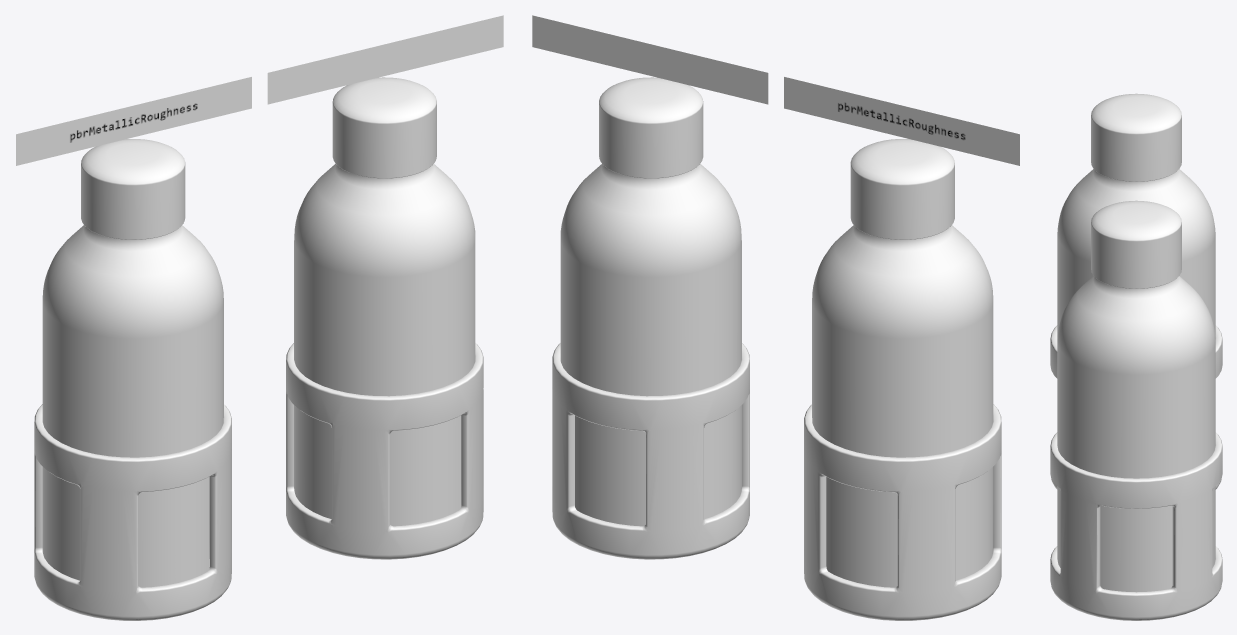
The model's file is specGlossMetalRough1.glb.
3 renders of one model, left to right at view 1: azimuth 30°, elevation 25°; view 2: azimuth 150°, elevation 25°; view 3: azimuth 270°, elevation 25°, orthographic. The views are drawn at different scales.
Parts seen in each view (by area): view 1: WaterBottle_SpecGloss, WaterBottle_MR, SpecGlossLabel, MetalRoughLabel; view 2: WaterBottle_SpecGloss, WaterBottle_MR, SpecGlossLabel, MetalRoughLabel; view 3: WaterBottle_SpecGloss, WaterBottle_MR.
Part boxes in pixels (x1,y1,x2,y2): WaterBottle_SpecGloss: (286,77,483,559); WaterBottle_MR: (34,139,231,620); SpecGlossLabel: (267,15,503,104); MetalRoughLabel: (16,77,251,165); WaterBottle_SpecGloss: (552,77,749,559); WaterBottle_MR: (804,139,1001,620); SpecGlossLabel: (532,15,768,104); MetalRoughLabel: (784,77,1019,165); WaterBottle_SpecGloss: (1050,200,1222,620); WaterBottle_MR: (1050,93,1222,489).
Bounding box in the file's own units: 0.31 × 0.2898 × 0.1089.
Materials: 4 (1 with a texture image).
